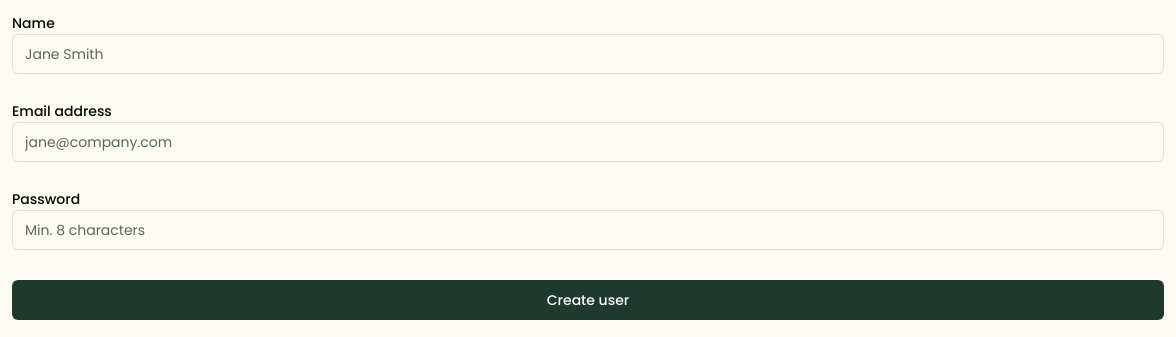
UserForm — name validation › shows error when name is too short
Type "AB" into the field labelled "Name" at (588, 54), box [12,34,1164,74]
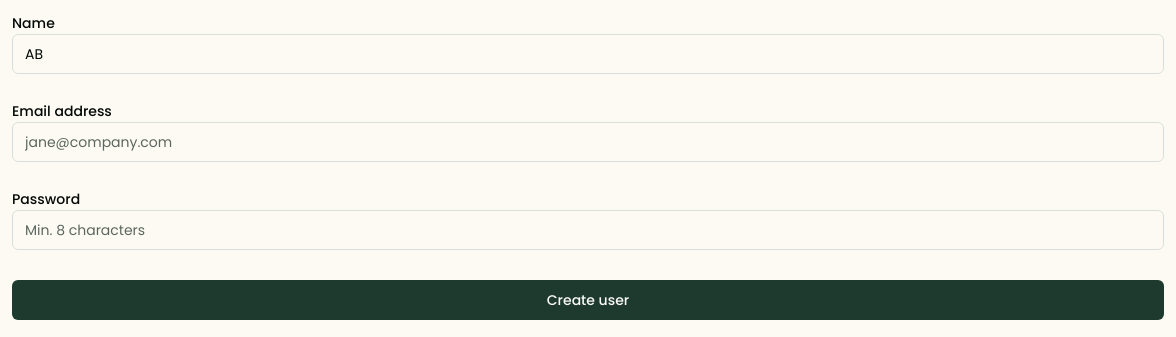
Type "test@example.com" into the field labelled "Email address" at (588, 142), box [12,122,1164,162]
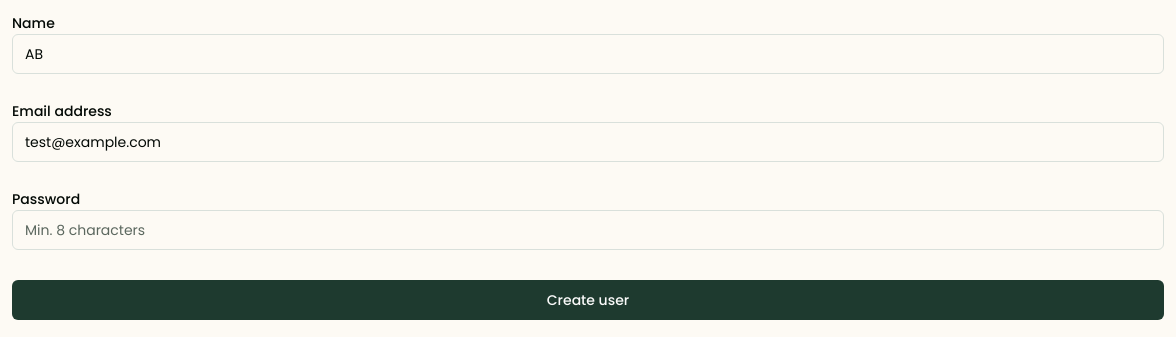
Type "password123" into the password field labelled "Password" at (588, 230), box [12,210,1164,250]
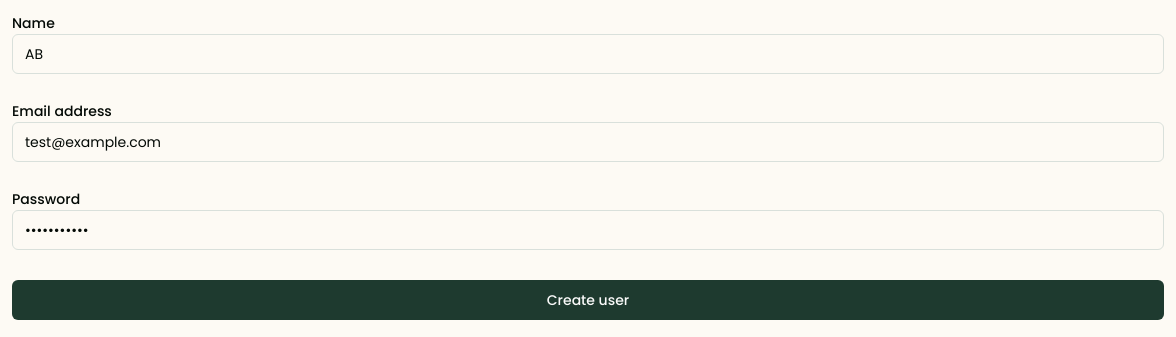
Click the button "Create user" at (588, 300), box [12,280,1164,320]
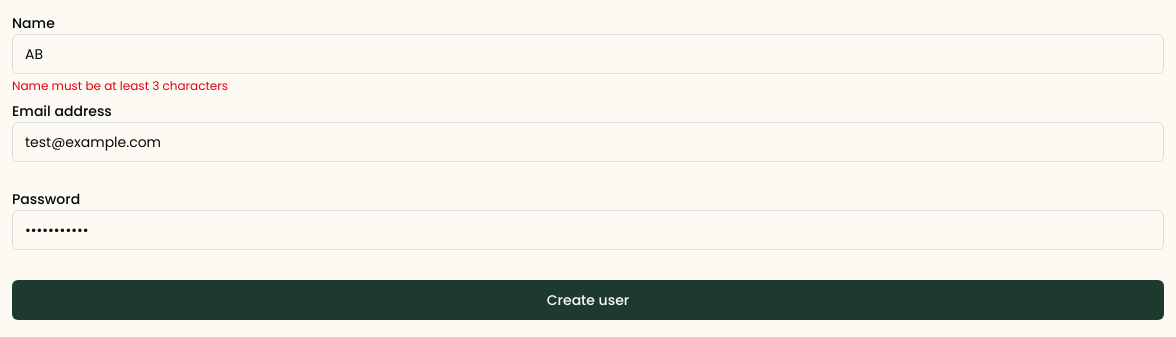
expect the text "Name must be at least 3 characters" is shown: met, box [12,77,228,94]
